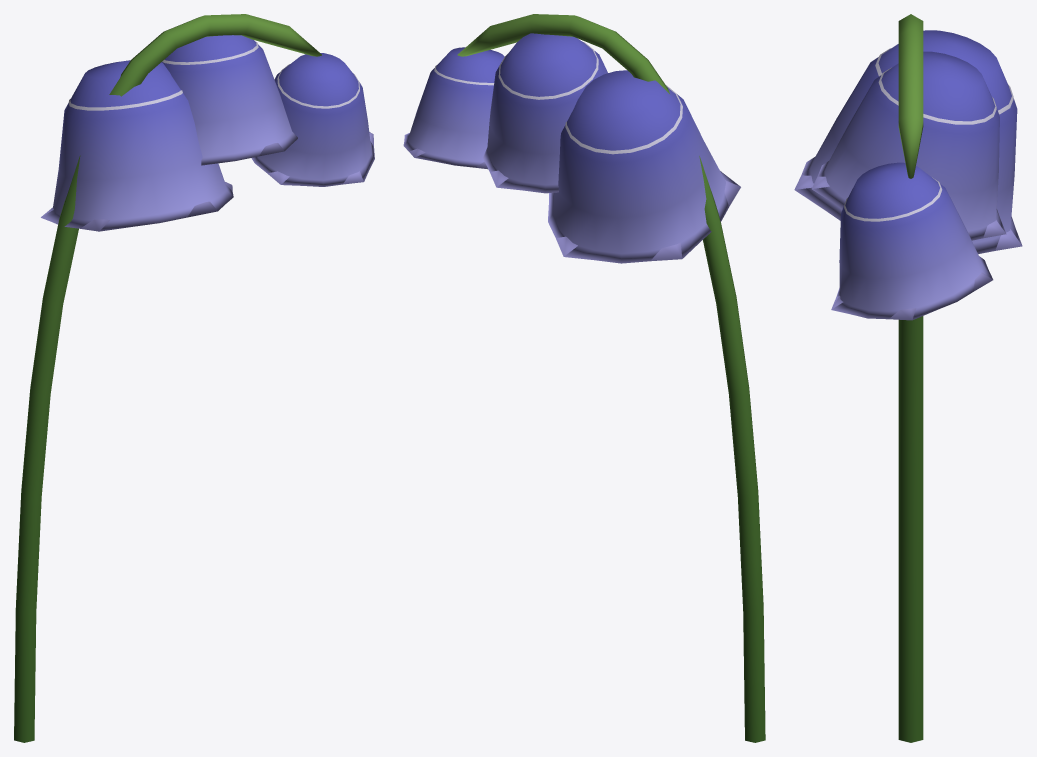
The model's file is Bellflower.fbx.
3 views of the same model, side by side, from view 1: azimuth 30°, elevation 25°; view 2: azimuth 150°, elevation 25°; view 3: azimuth 270°, elevation 25° (orthographic). The views are drawn at different scales.
Visible parts, largest first — view 1: Bellflower; view 2: Bellflower; view 3: Bellflower.
Boxes of the visible parts, x1=… form: Bellflower: x1=14, y1=14, x2=374, y2=742; Bellflower: x1=403, y1=14, x2=765, y2=742; Bellflower: x1=794, y1=14, x2=1022, y2=742.
Bounding box in the file's own units: 2.11 × 3.8 × 0.9659.
